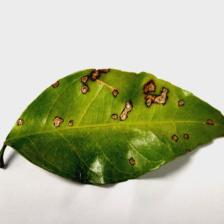canker: (14, 67, 216, 169)
